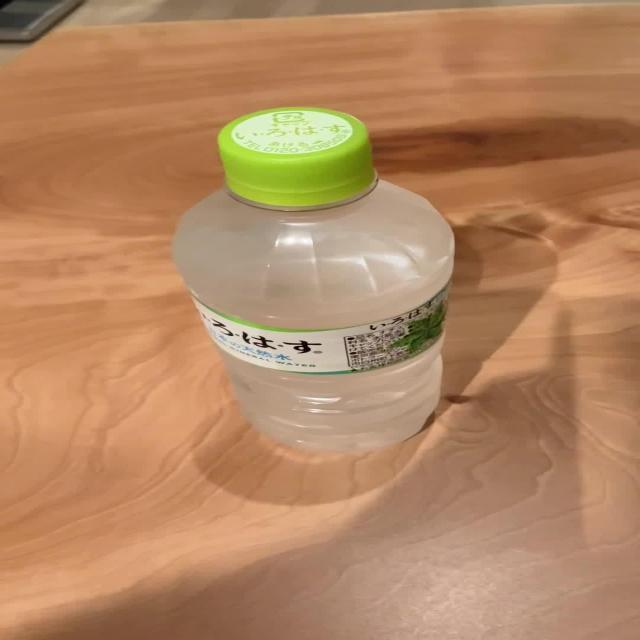good: (166, 104, 462, 454)
